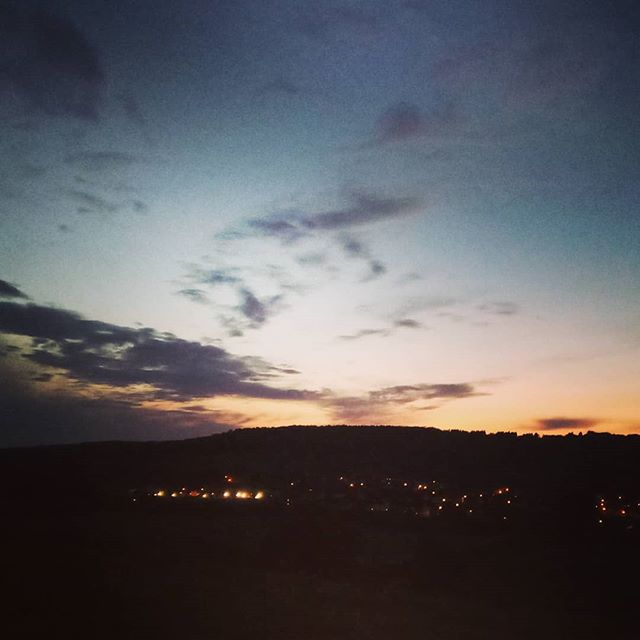sky: (1, 1, 640, 423)
